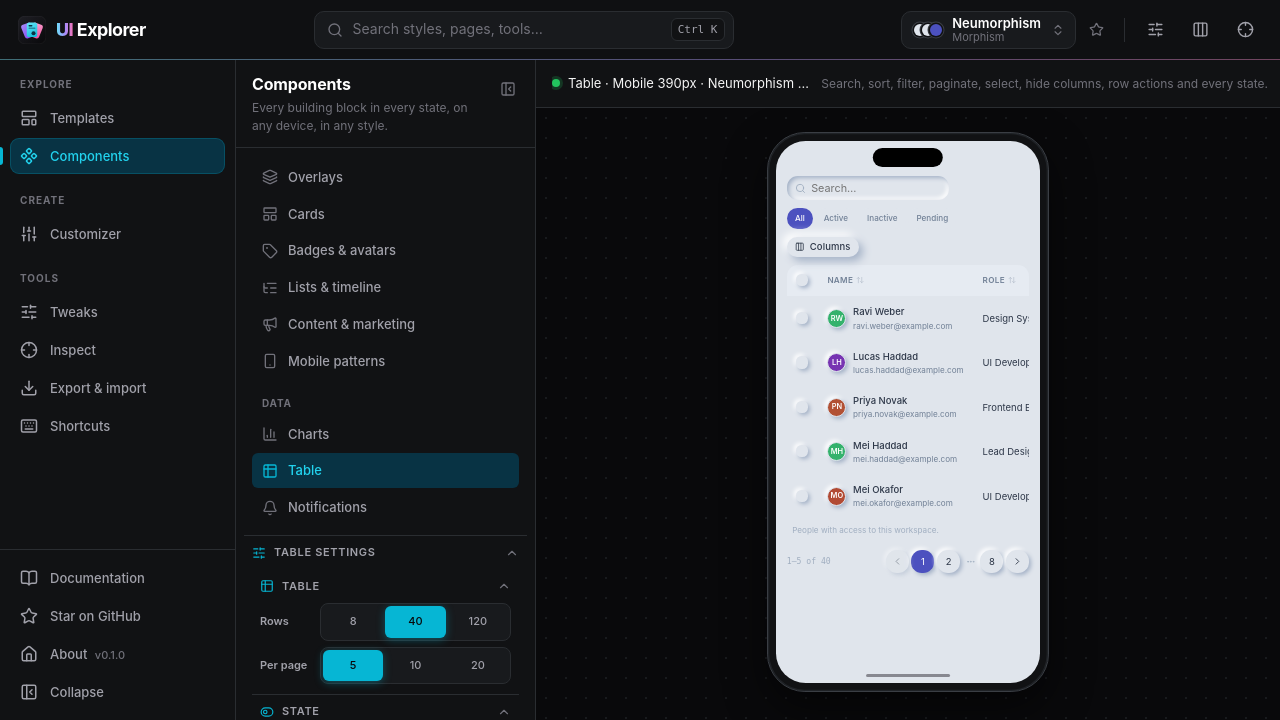
Test: UI Explorer — Integration & Engine Tests › addresses › components sections, device and compare live in the URL
(page scrolled)
Expected: the heading "Components" is shown, [252,74,351,94]
Expected: the text "Table settings" is shown, [274,545,376,559]
Click the link "Charts" at (296, 434), box [262,426,329,442]
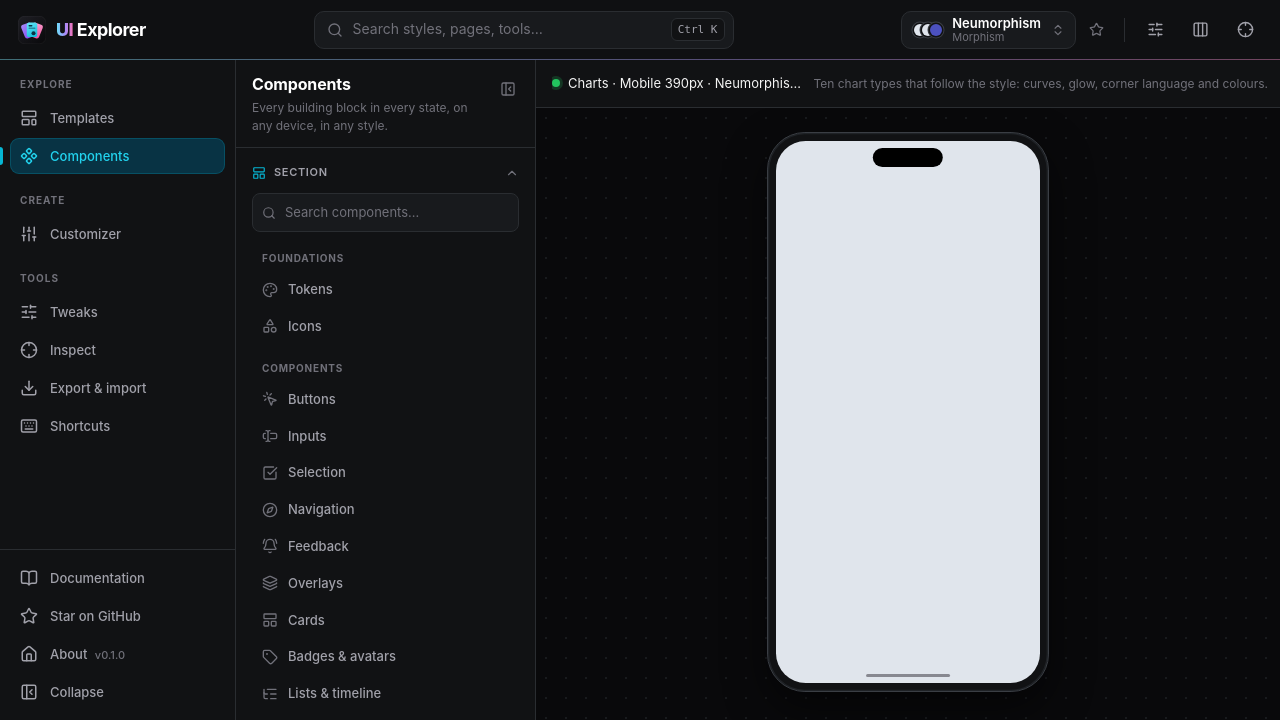
Click the button named "compare" at (1200, 30), box [1182,12,1219,48]
(page scrolled)
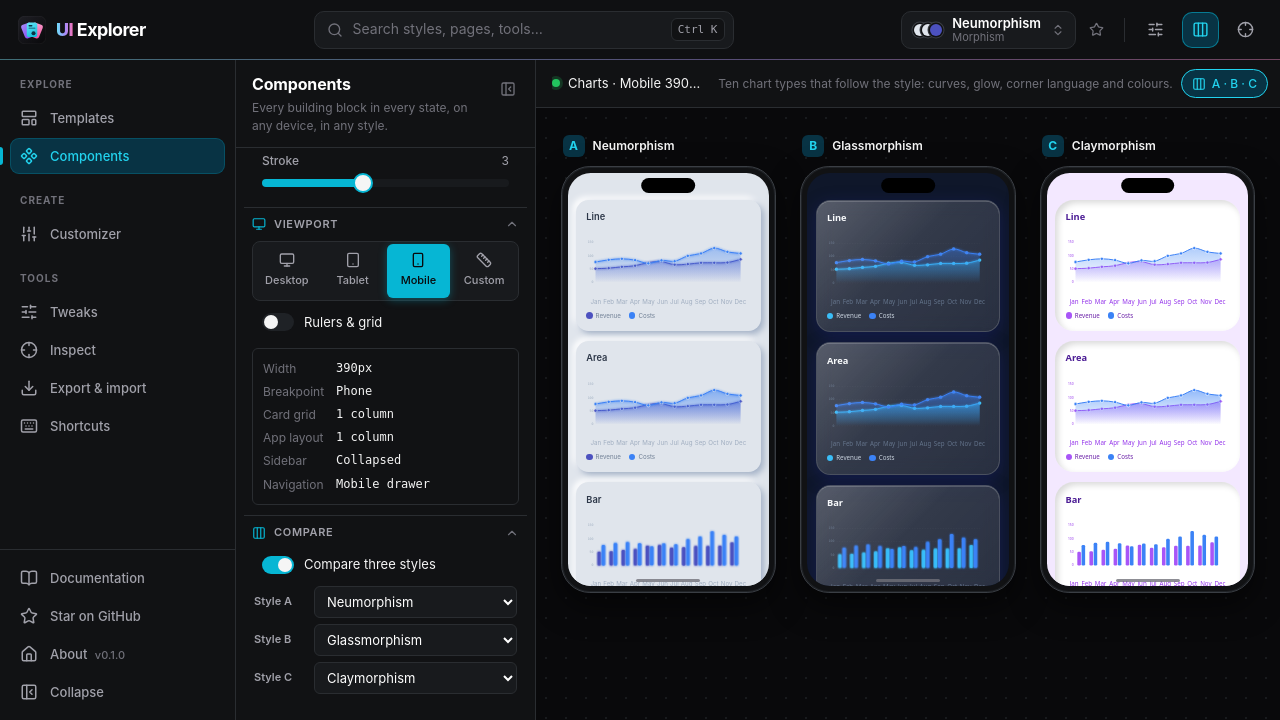
Expected: the text "Style C" is shown, [254,670,292,684]
